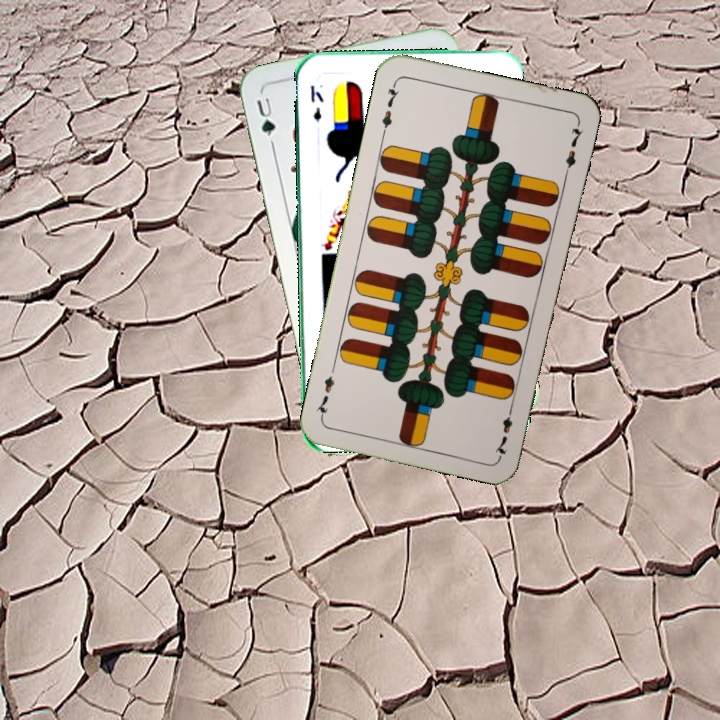E7: (491, 400, 516, 459), (377, 78, 401, 136)
EK: (306, 82, 326, 124)
GU: (252, 93, 278, 140)
